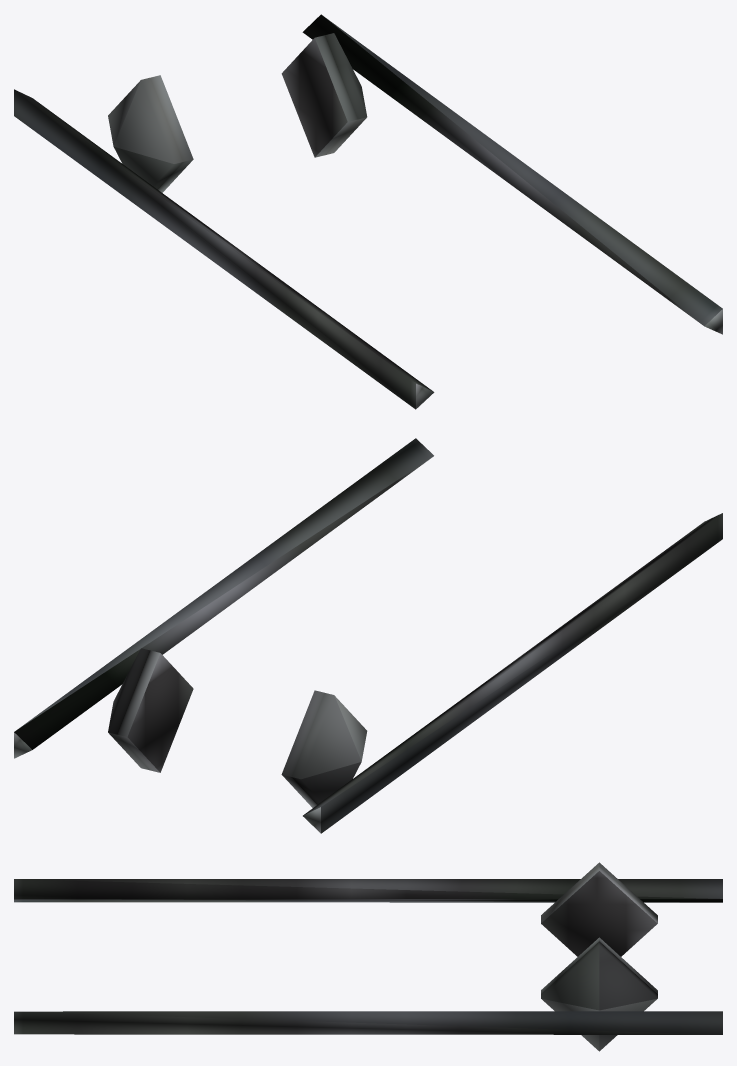
Rendered from imperial_gunboat_turretbody_nose_l3.fbx.
3 views of the same model, one above another, from view 1: azimuth 30°, elevation 25°; view 2: azimuth 150°, elevation 25°; view 3: azimuth 270°, elevation 25° (orthographic). The views are drawn at different scales.
Parts seen in each view (by area): view 1: mesh_node; view 2: mesh_node; view 3: mesh_node.
Part boxes in pixels (x1,y1,x2,y2): mesh_node: (14,14,722,409); mesh_node: (14,438,722,833); mesh_node: (14,862,722,1051).
Bounding box in the file's own units: 5.97 × 2.23 × 13.52.
Materials: 1 (1 with a texture image).
